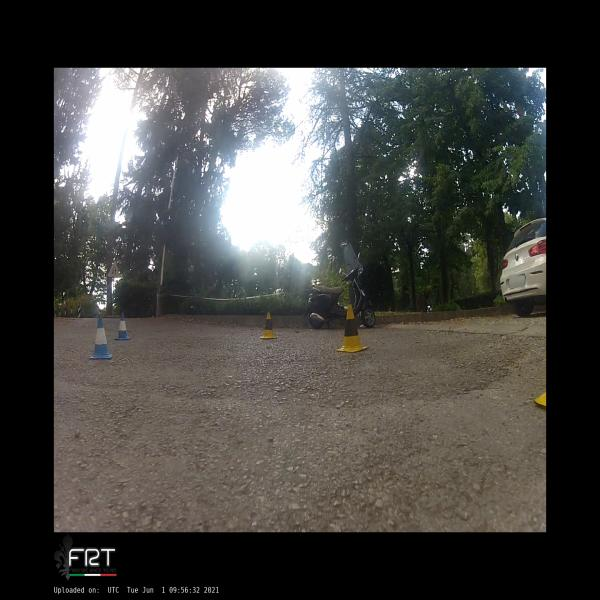blue_cone: (90, 317, 112, 359), (115, 312, 131, 340)
yellow_cone: (334, 306, 368, 352), (260, 312, 278, 338)
